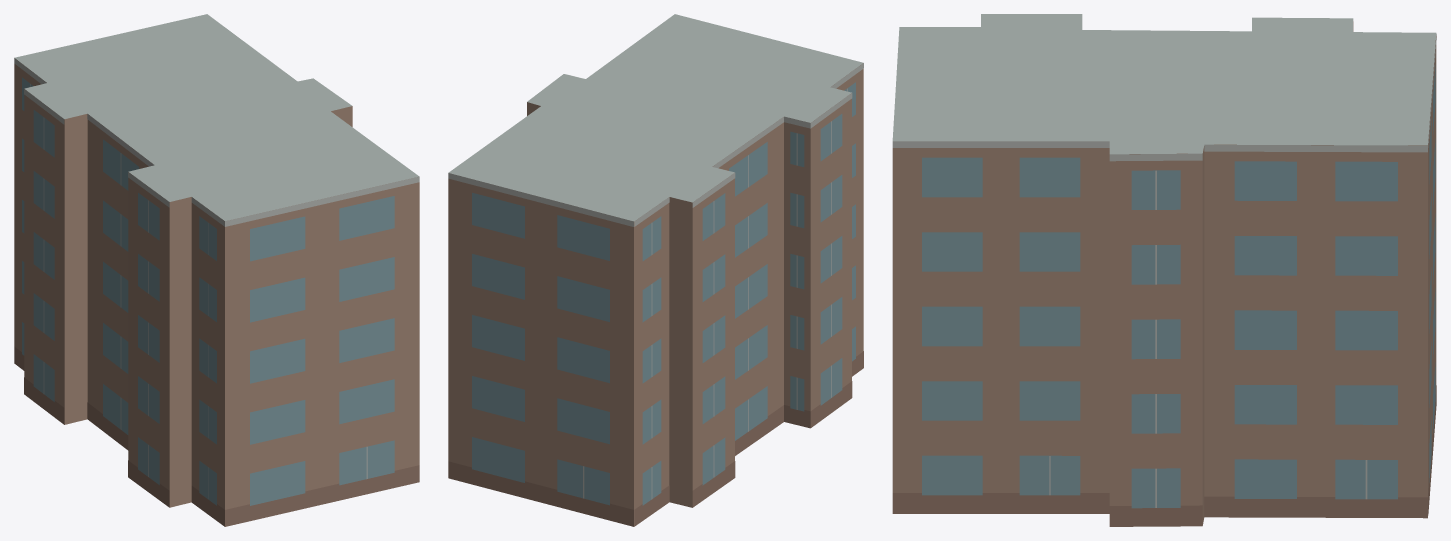
The model's file is survey-upis-32568473.glb.
3 views of the same model, side by side, from view 1: azimuth 30°, elevation 25°; view 2: azimuth 150°, elevation 25°; view 3: azimuth 270°, elevation 25° (orthographic). The views are drawn at different scales.
Visible parts, largest first — view 1: survey-upis-32568473.tmp; view 2: survey-upis-32568473.tmp; view 3: survey-upis-32568473.tmp.
Boxes of the visible parts, x1,y1,x2,y2 form: survey-upis-32568473.tmp: (14, 14, 419, 526); survey-upis-32568473.tmp: (448, 14, 863, 526); survey-upis-32568473.tmp: (892, 14, 1436, 526).
Bounding box in the file's own units: 10.59 × 13.1 × 17.34.
